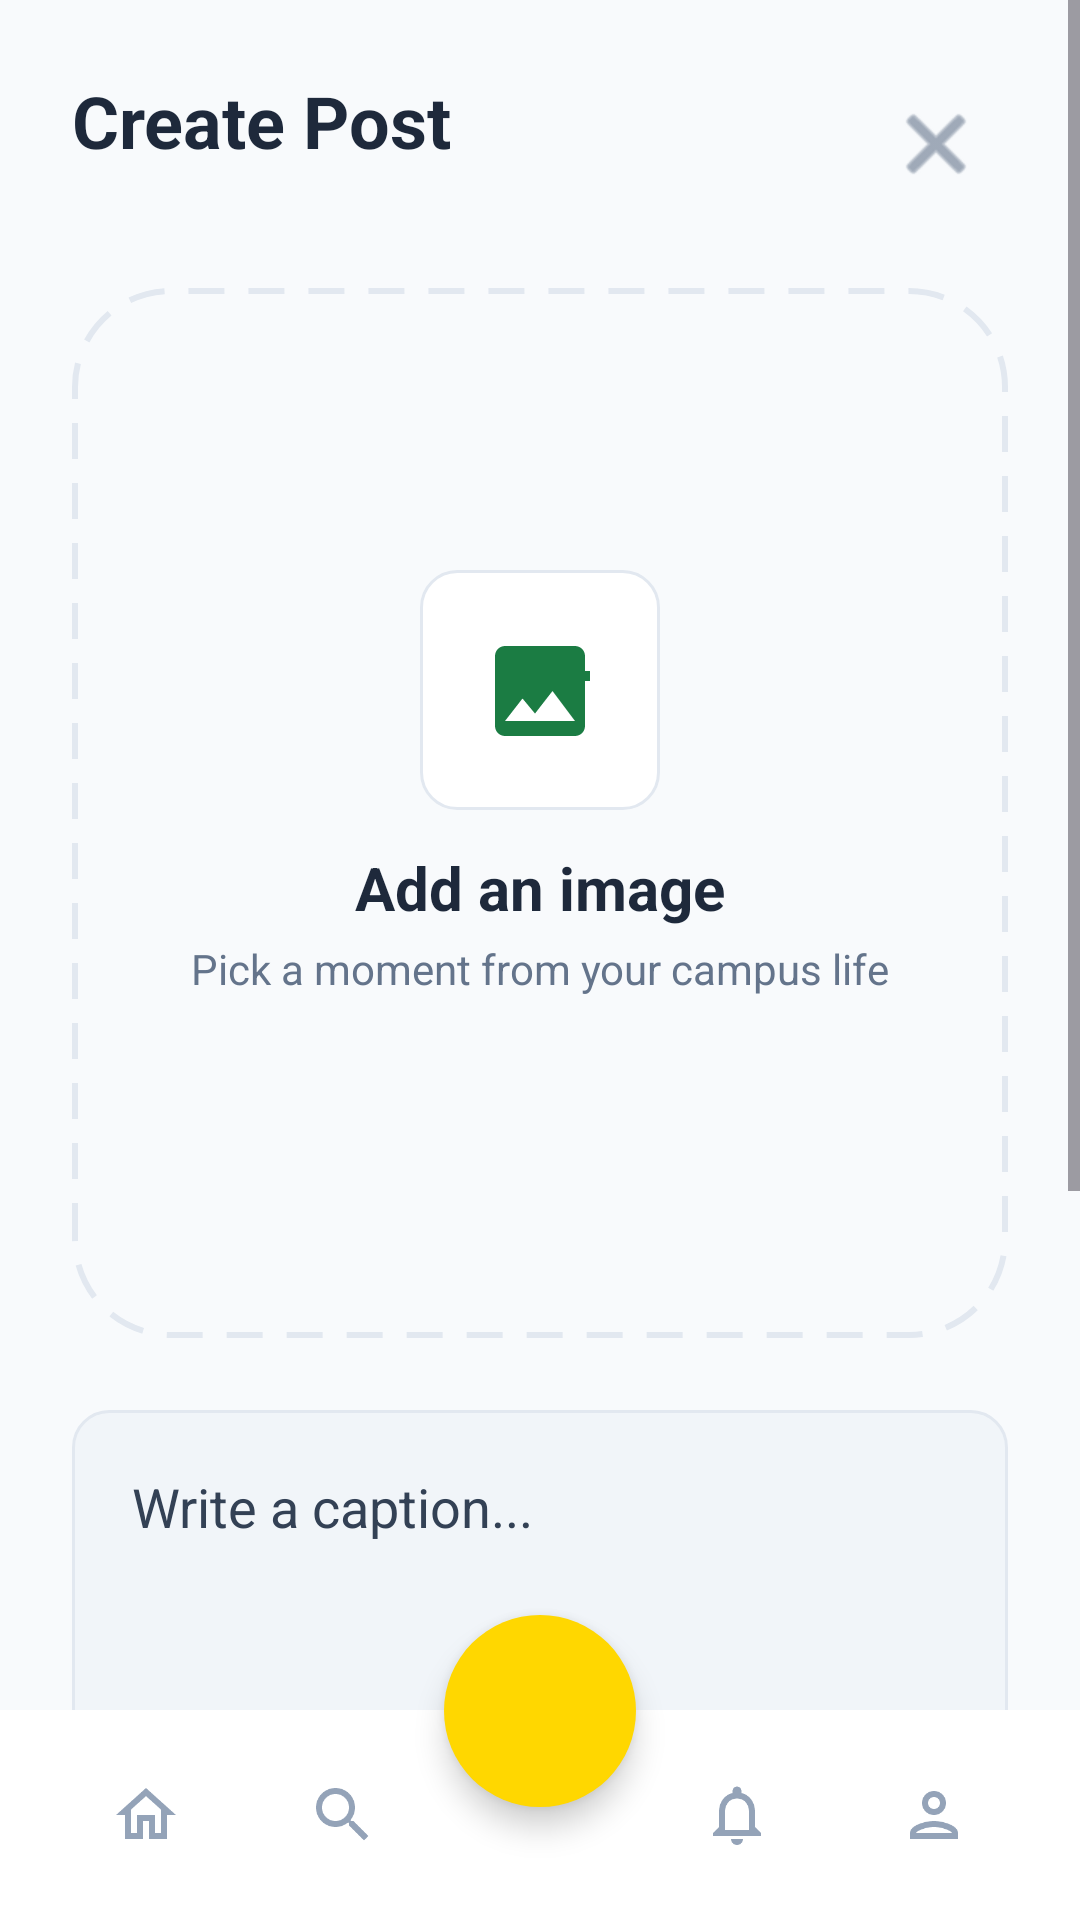

Named icons in this screenshot (1080w x 1920h) and their centers, (x=x, y=y):
Close: (x=936, y=144)
Home: (x=146, y=1813)
Notifications: (x=737, y=1815)
Profile: (x=934, y=1815)
Search: (x=342, y=1814)
